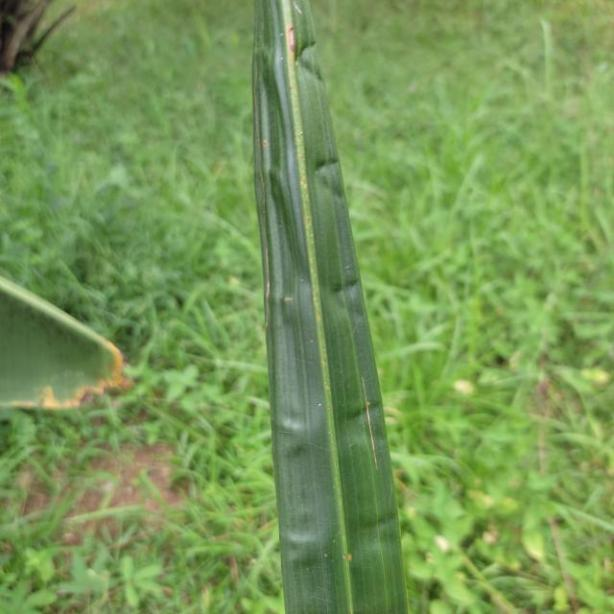Boron: (249, 1, 407, 614)
